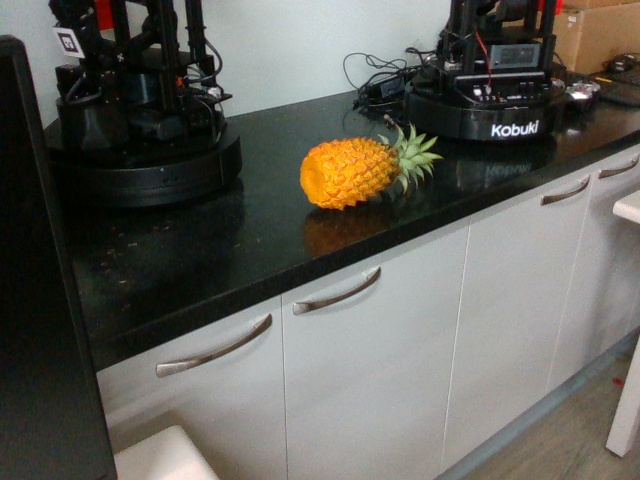pineapple: (293, 126, 450, 215)
